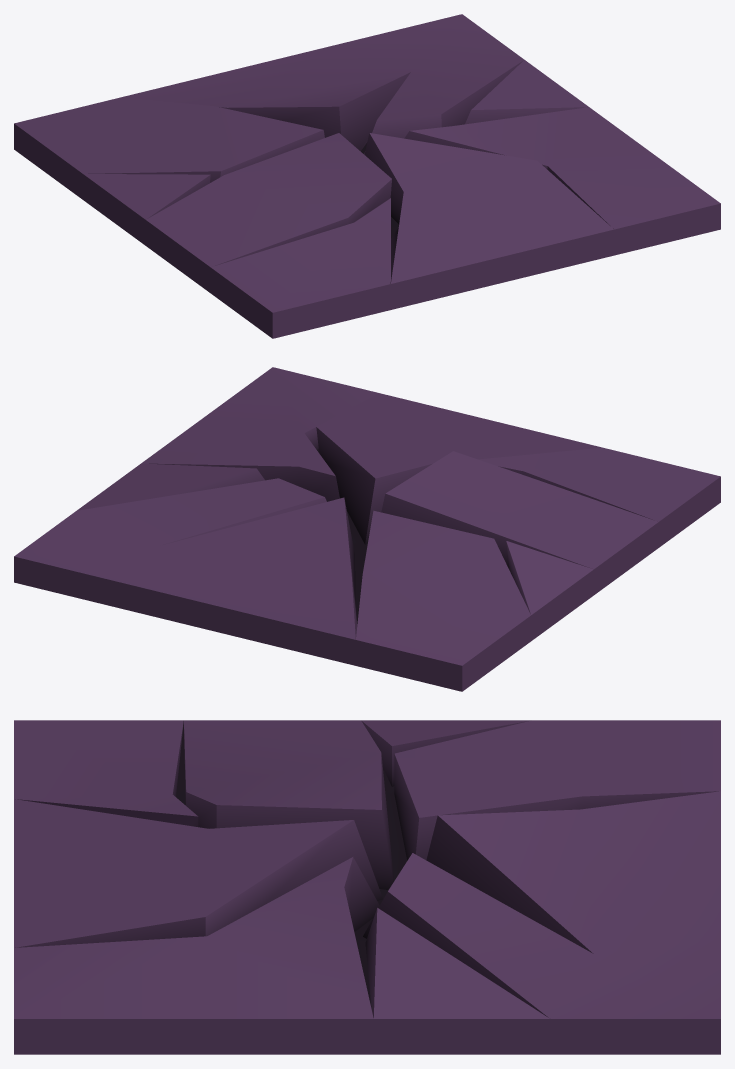
The model's file is TileResourceOil.fbx.
The picture shows the model from 3 angles, top to bottom: view 1: azimuth 30°, elevation 25°; view 2: azimuth 150°, elevation 25°; view 3: azimuth 270°, elevation 25°; orthographic projection. The views are drawn at different scales.
Visible parts, largest first — view 1: TileResource-Oil; view 2: TileResource-Oil; view 3: TileResource-Oil.
Boxes of the visible parts, x1,y1,x2,y2 form: TileResource-Oil: (14, 14, 720, 338); TileResource-Oil: (14, 367, 720, 691); TileResource-Oil: (14, 720, 720, 1054).
Size of the model in its own units: 200 by 27.53 by 200.
